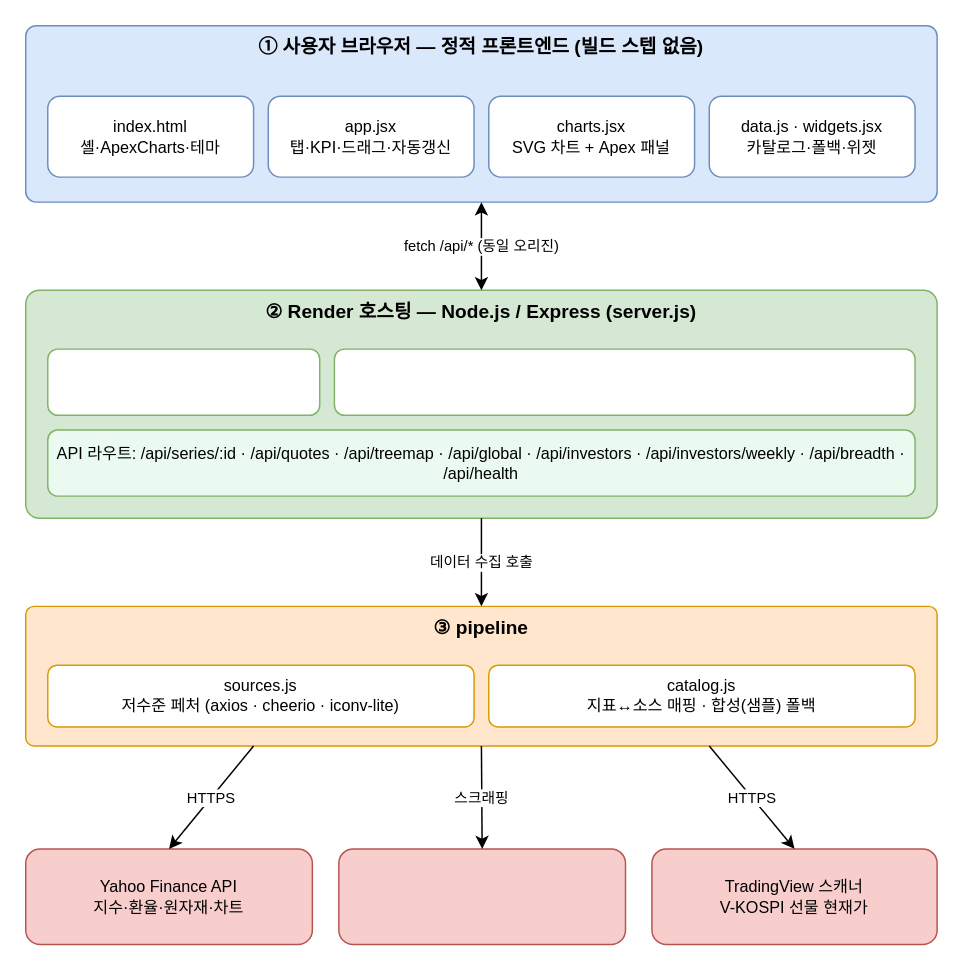
Some shapes in this 963 by 970 pixel diagram are drawn without their labels. Here are the shapes that lost their labels. From the top down, the centre of each, then its label:
At point (183, 381): "정적 서빙 express.static(public)".
At point (624, 381): "캐시 레이어 인메모리 + cache/investors-daily.json (디스크)".
At point (481, 895): "네이버 금융 시총·투자자수급·금리 (EUC-KR)".
